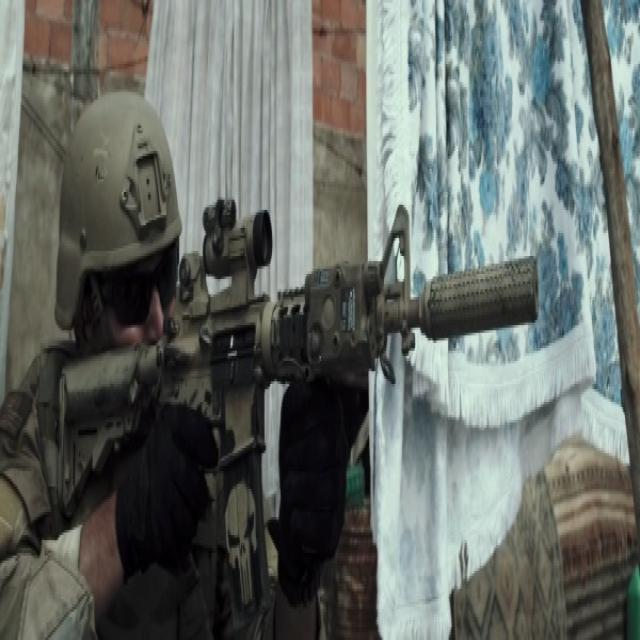rifle: (49, 201, 543, 517)
